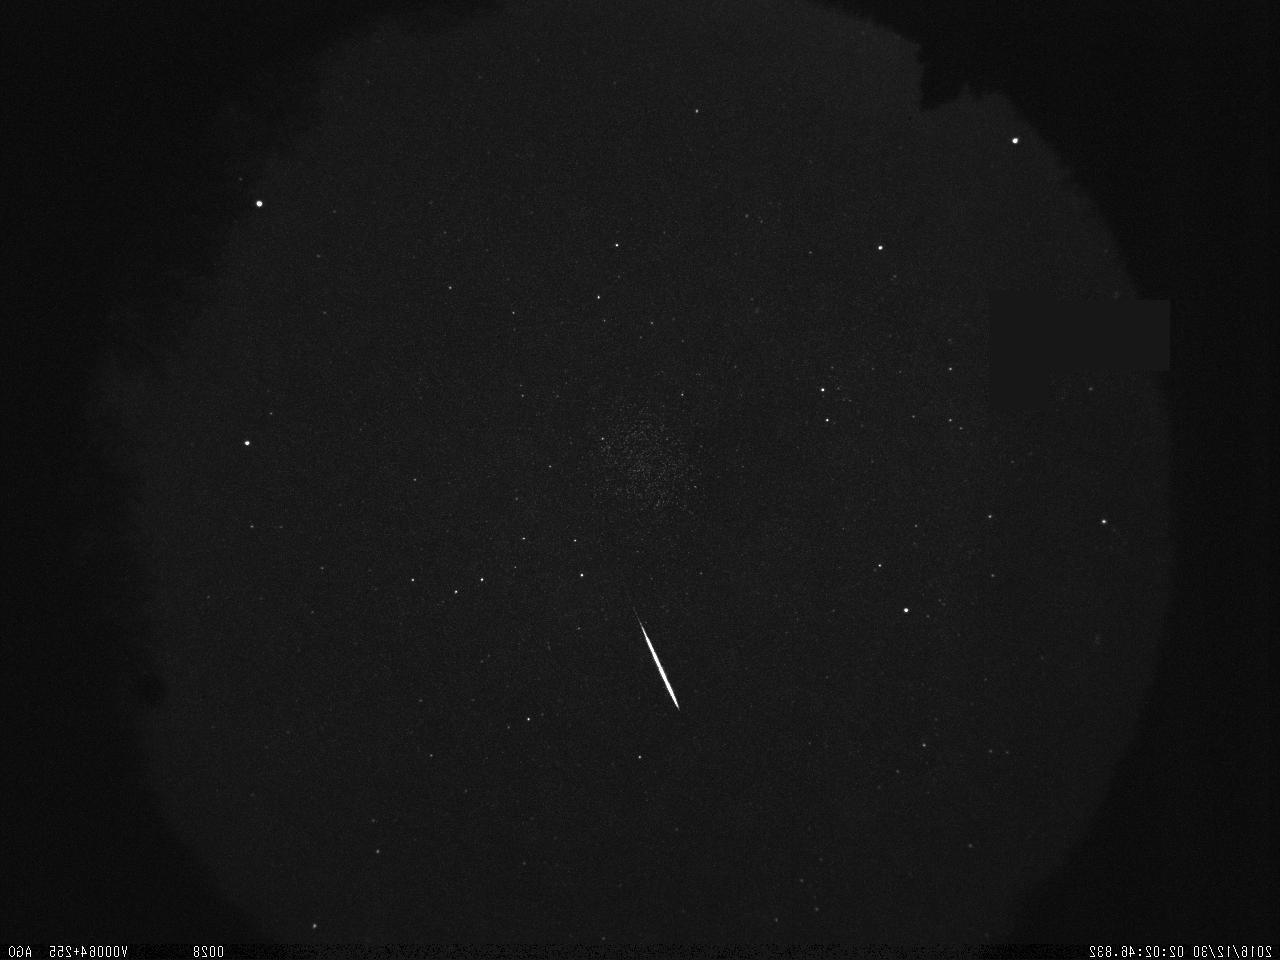meteor: (633, 622, 682, 712)
